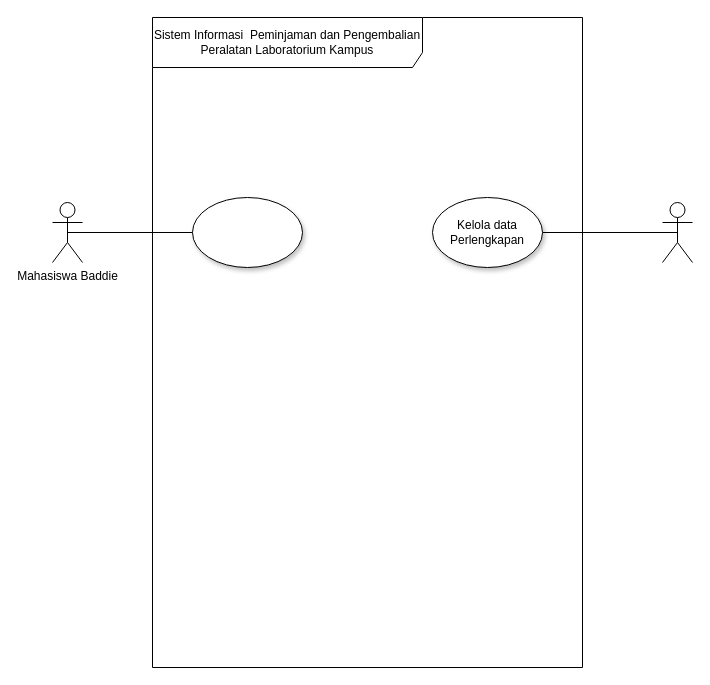
This 710x685 diagram has some shape labels left out. The shapes that lost their labels are listed below. From the top down, each one's centre as x and y in pixels, then its label:
(x=248, y=233): Lihat Ketersediaan Peralatan
(x=677, y=232): Actor
